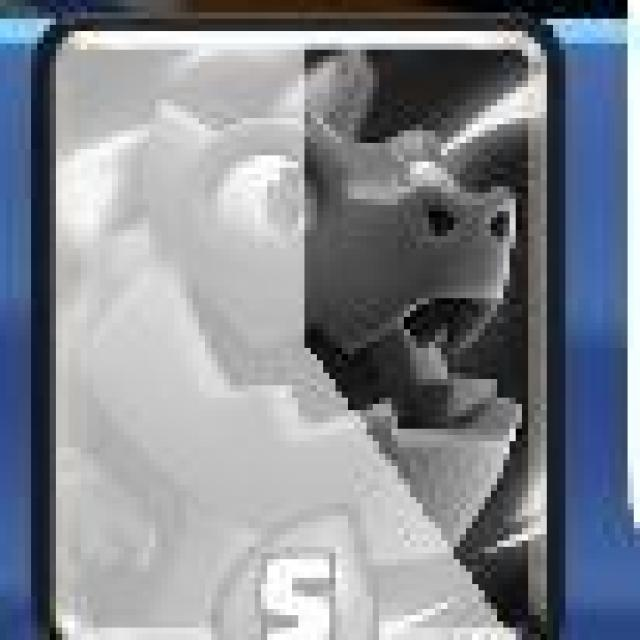Electro_Dragon: (23, 5, 569, 640)
